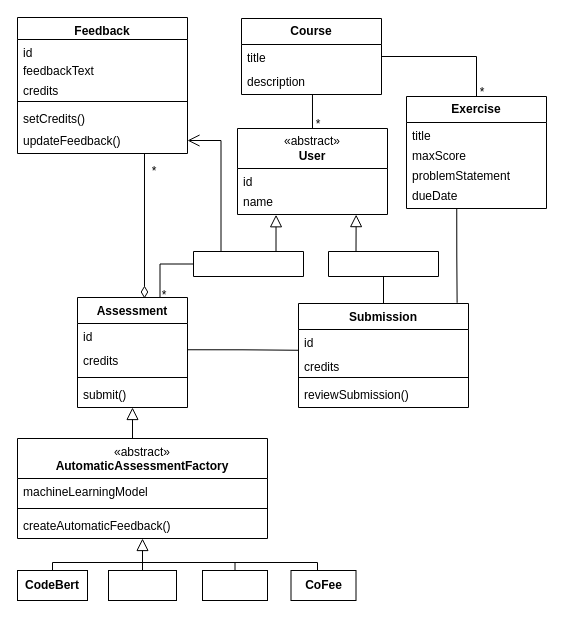
The diagram is 564 pixels wide and 618 high, and some of its shapes have lost their labels. The shapes that lost their labels are listed below. From the top down, each one's centre as x and y in pixels, then its label:
point 248,263: Tutor
point 383,263: Student
point 142,585: Compass
point 235,585: LLM
